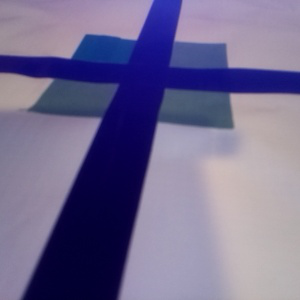bottom_left: (29, 64, 158, 117)
bottom_right: (118, 69, 233, 129)
top_left: (71, 34, 169, 81)
top_right: (137, 41, 228, 89)
